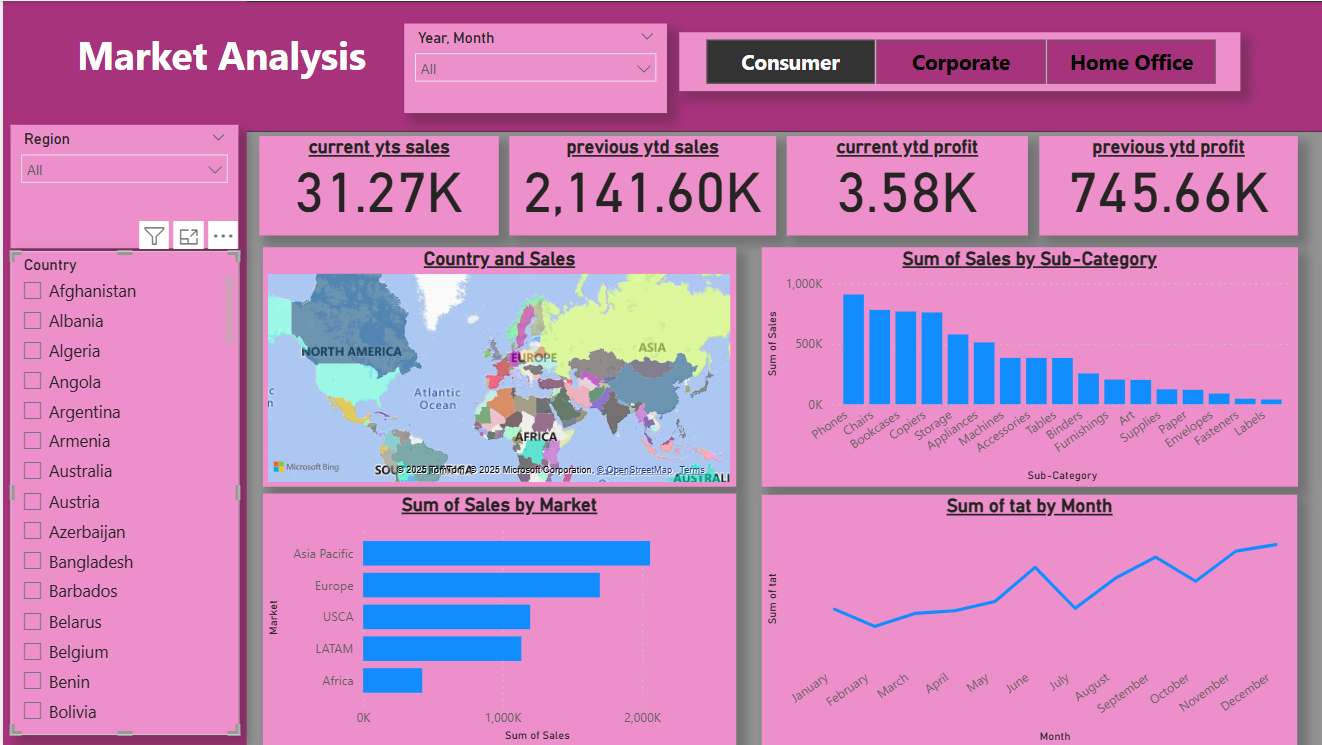

The dashboard page shown, as its layout file describes it:
{"tool":"powerbi","page":{"name":"Page 1","canvas":[1280,720],"ordinal":0},"visuals":[{"type":"shape","box":[0,0,1280.3,126.7],"z":0},{"type":"shape","box":[0,0,235.4,720.3],"z":1000},{"type":"slicer","fields":{"Values":["Orders.Ship Date.Variation.Date Hierarchy.Year","Orders.Ship Date.Variation.Date Hierarchy.Month"]},"box":[386.7,22,253.5,86.6],"z":2000},{"type":"card","title":"current yts sales","fields":{"Values":["Orders.year_to_date sales"]},"box":[247,130.6,231.5,95.7],"z":3000},{"type":"card","title":"previous ytd sales","fields":{"Values":["Orders.previous ytd sales"]},"box":[488.8,130.6,257.3,95.7],"z":4000},{"type":"card","title":"current ytd profit","fields":{"Values":["Orders.year_to_date profit"]},"box":[756.5,130.6,232.8,95.7],"z":5000},{"type":"card","title":"previous ytd profit","fields":{"Values":["Orders.previous ytd profit"]},"box":[999.6,130.6,249.6,95.7],"z":6000},{"type":"textbox","box":[66,22,297.4,71.1],"z":7000},{"type":"slicer","fields":{"Values":["Orders.Region"]},"box":[7.8,119,219.8,119],"z":8000},{"type":"slicer","fields":{"Values":["Orders.Country"]},"box":[7.8,241.8,219.8,466.8],"z":9000},{"type":"slicer","fields":{"Values":["Orders.Segment"]},"box":[653.1,29.7,541.8,56.9],"z":10000},{"type":"filledMap","fields":{"Category":["Orders.Country"],"Series":["Orders.Sales"]},"box":[250.9,237.9,456.5,231.5],"z":11000},{"type":"clusteredColumnChart","fields":{"Category":["Orders.Sub-Category"],"Y":["Sum(Orders.Sales)"]},"box":[731.9,237.9,517.3,231.5],"z":12000},{"type":"clusteredBarChart","fields":{"Y":["Sum(Orders.Sales)"],"Category":["Orders.Market"]},"box":[250.9,475.9,456.5,244.4],"z":13000},{"type":"lineChart","fields":{"Category":["Orders.Ship Date.Variation.Date Hierarchy.Month"],"Y":["Sum(Orders.tat)"]},"box":[732,476,517,244],"z":14000}]}

Visuals, with their boxes in screenshot pixels (x1, y1, x2, y2), scaled from the page's 1280x720 canvas onto the 1322x745 screenshot:
shape: [0,0,1321,131]
shape: [0,0,243,744]
slicer - Orders.Ship Date.Variation.Date Hierarchy.Year x Orders.Ship Date.Variation.Date Hierarchy.Month: [399,23,661,112]
"current yts sales" card: [255,135,494,234]
"previous ytd sales" card: [505,135,771,234]
"current ytd profit" card: [781,135,1022,234]
"previous ytd profit" card: [1032,135,1290,234]
textbox: [68,23,375,96]
slicer - Orders.Region: [8,123,235,246]
slicer - Orders.Country: [8,250,235,733]
slicer - Orders.Segment: [675,31,1234,90]
filledMap - Orders.Country x Orders.Sales: [259,246,731,486]
clusteredColumnChart - Orders.Sub-Category x Sum(Orders.Sales): [756,246,1290,486]
clusteredBarChart - Sum(Orders.Sales) x Orders.Market: [259,492,731,744]
lineChart - Orders.Ship Date.Variation.Date Hierarchy.Month x Sum(Orders.tat): [756,493,1290,744]
